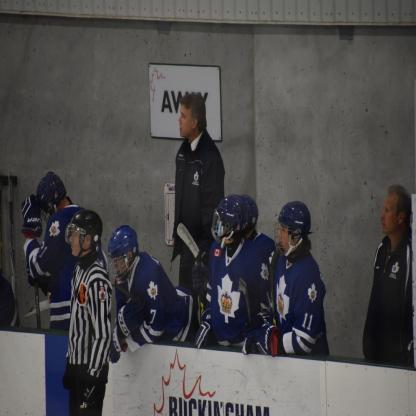Helmet: (272, 198, 314, 258), (101, 232, 137, 290), (64, 208, 102, 258), (211, 194, 247, 246), (36, 172, 65, 225), (239, 194, 260, 230)
